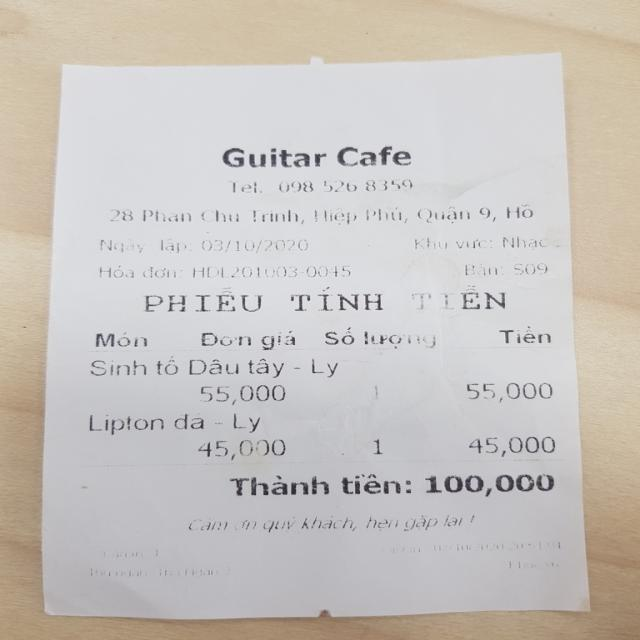Date: (199, 232, 317, 256)
Store_Name: (214, 142, 418, 171)
amount_number: (423, 470, 558, 499)
label_total: (227, 469, 405, 502)
